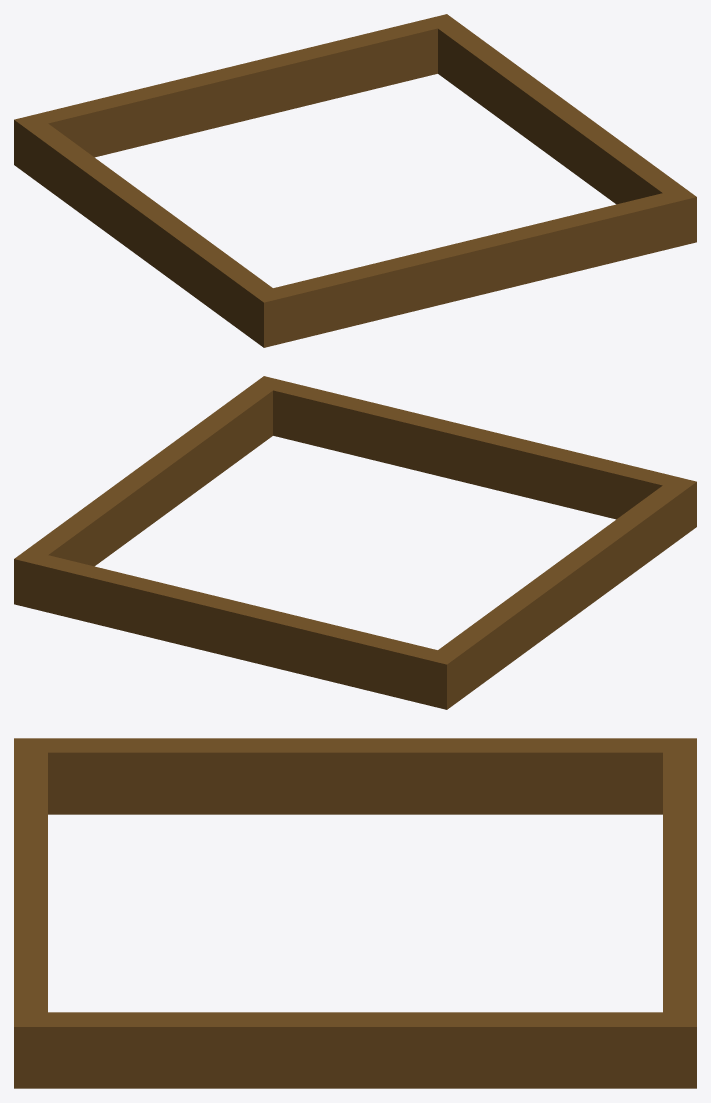
The model's file is Trappe_Contour.fbx.
3 renders of one model, top to bottom at view 1: azimuth 30°, elevation 25°; view 2: azimuth 150°, elevation 25°; view 3: azimuth 270°, elevation 25°, orthographic. The views are drawn at different scales.
Parts seen in each view (by area): view 1: Trappe_Contour; view 2: Trappe_Contour; view 3: Trappe_Contour.
Boxes of the visible parts, box(x1,y1,x2,y2) form: Trappe_Contour: box(14, 14, 696, 347); Trappe_Contour: box(14, 376, 696, 709); Trappe_Contour: box(14, 738, 696, 1088).
Bounding box in the file's own units: 600 × 600 × 60.
